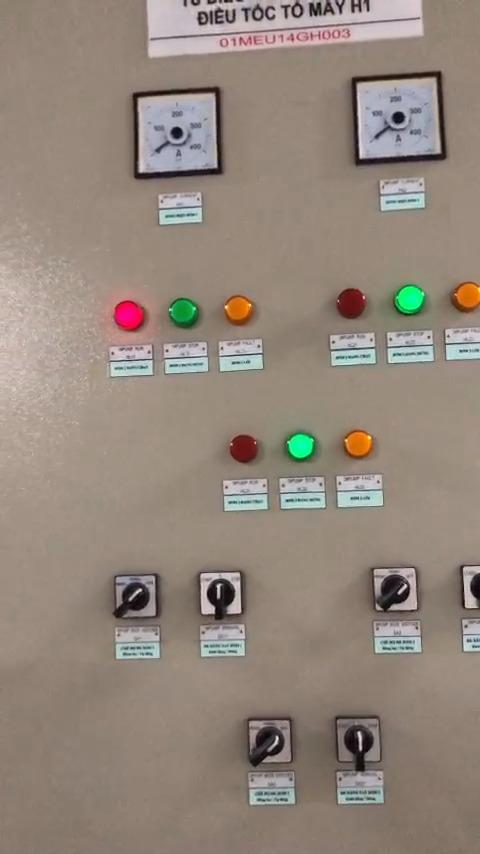led: (389, 284, 425, 319), (332, 286, 368, 321), (165, 299, 201, 334), (227, 431, 263, 466), (341, 425, 375, 460), (282, 430, 315, 466), (113, 300, 150, 332), (224, 296, 255, 329), (450, 283, 480, 315)
twist: (336, 711, 383, 766), (194, 568, 244, 619), (374, 564, 423, 616), (113, 571, 160, 623), (244, 715, 290, 765), (457, 561, 480, 613)
